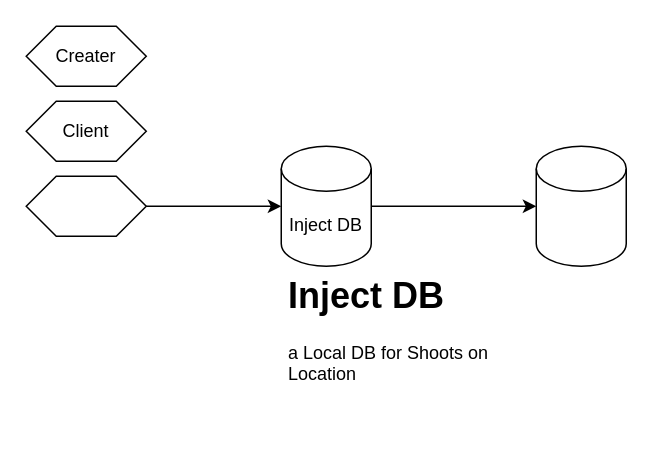
Some shapes in this 653 by 473 pixel diagram are drawn without their labels. The box of each missing label's shape, as (x1, y1, x2, y2) in pixels:
Inject: (25, 175, 146, 236)
Main DB: (535, 145, 626, 266)
